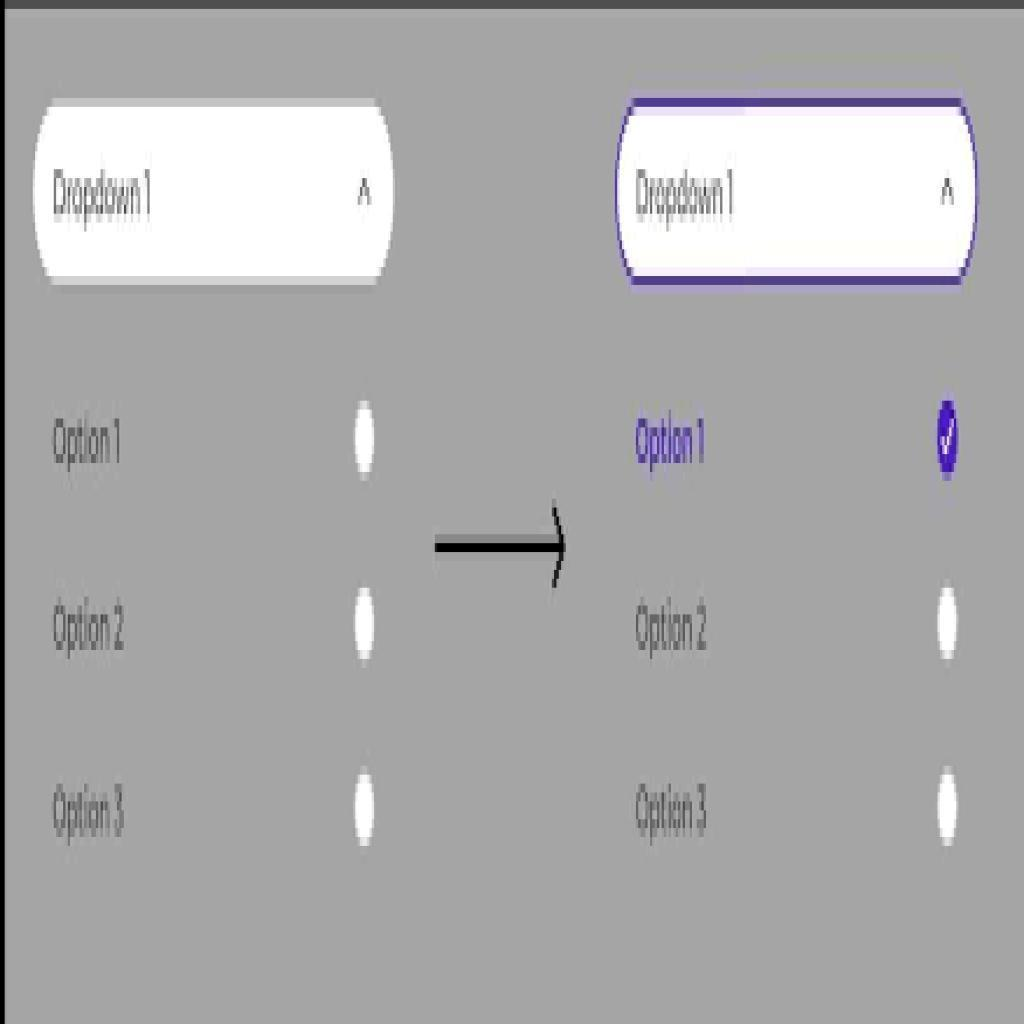checkbox: (934, 399, 964, 479)
dropdown: (36, 100, 398, 285), (620, 101, 976, 283)
radio: (935, 581, 961, 665), (353, 768, 378, 850), (936, 768, 960, 848), (352, 588, 375, 664), (355, 404, 377, 480)
